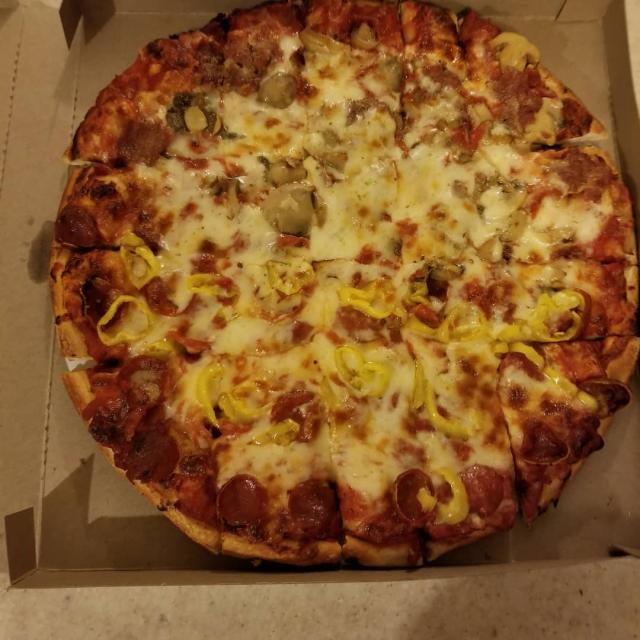mushrooms: (524, 94, 564, 150), (488, 31, 542, 71)
pepperoni: (511, 416, 573, 467), (215, 473, 270, 529), (270, 389, 326, 442), (131, 430, 181, 486), (115, 118, 172, 167), (118, 355, 172, 406), (458, 464, 508, 518), (393, 469, 436, 527), (578, 375, 633, 420), (288, 480, 335, 532), (53, 200, 99, 253)
pizza: (50, 0, 639, 569)
